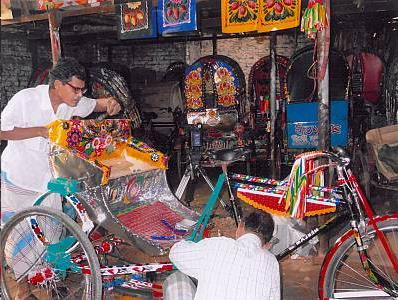Rickshaw: (17, 111, 397, 292), (173, 47, 251, 180), (286, 42, 355, 176), (242, 44, 295, 167), (76, 61, 140, 131)
